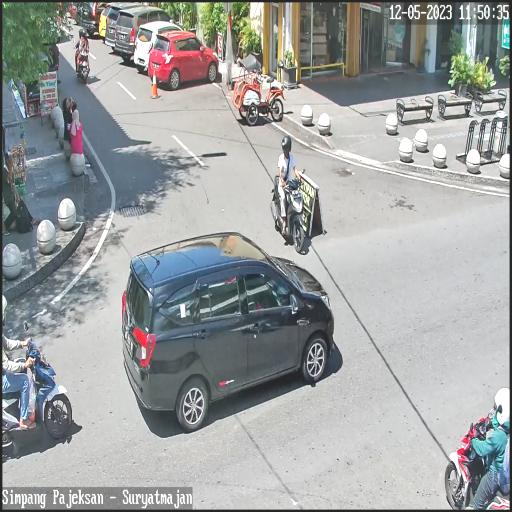mobil: (119, 228, 338, 436), (150, 29, 222, 91), (114, 6, 180, 65), (135, 18, 185, 79)
motor: (1, 322, 72, 456), (269, 164, 309, 256), (72, 37, 89, 82)
